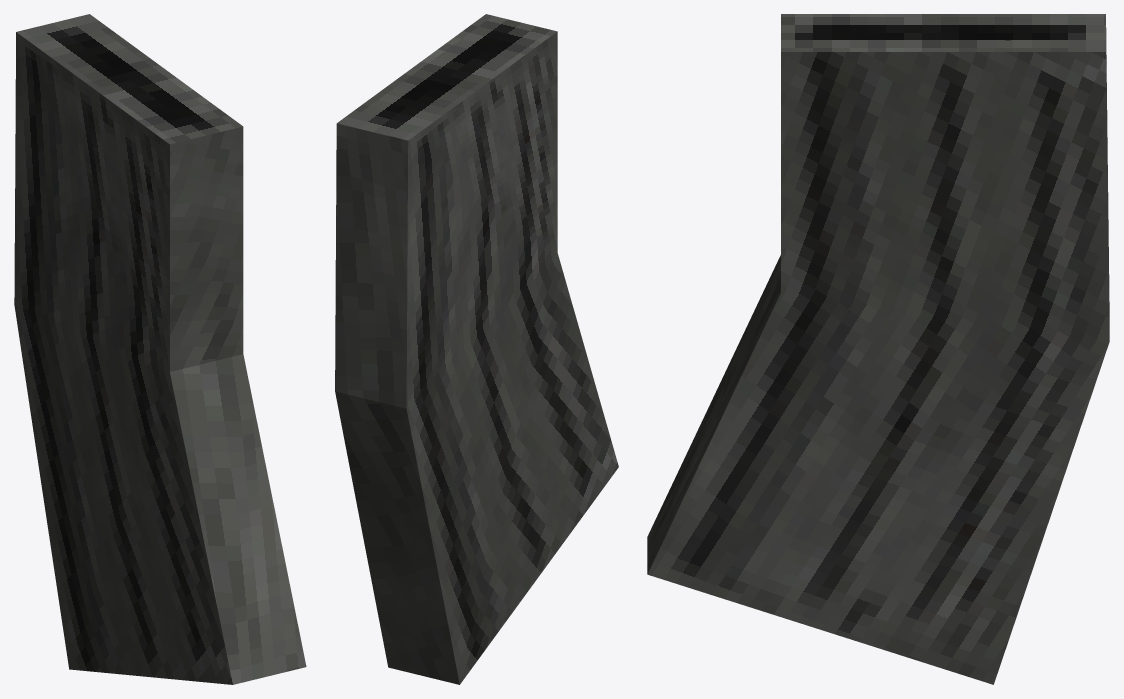
Rendered from m4a1_ammo.fbx.
3 views of the same model, side by side, from view 1: azimuth 30°, elevation 25°; view 2: azimuth 150°, elevation 25°; view 3: azimuth 270°, elevation 25° (orthographic). The views are drawn at different scales.
Visible parts, largest first — view 1: Cube.001; view 2: Cube.001; view 3: Cube.001.
Boxes of the visible parts, bbox=[...] form: Cube.001: bbox=[14, 14, 306, 684]; Cube.001: bbox=[335, 14, 618, 684]; Cube.001: bbox=[647, 14, 1109, 684].
Bounding box in the file's own units: 1.41 × 10.95 × 7.24.
